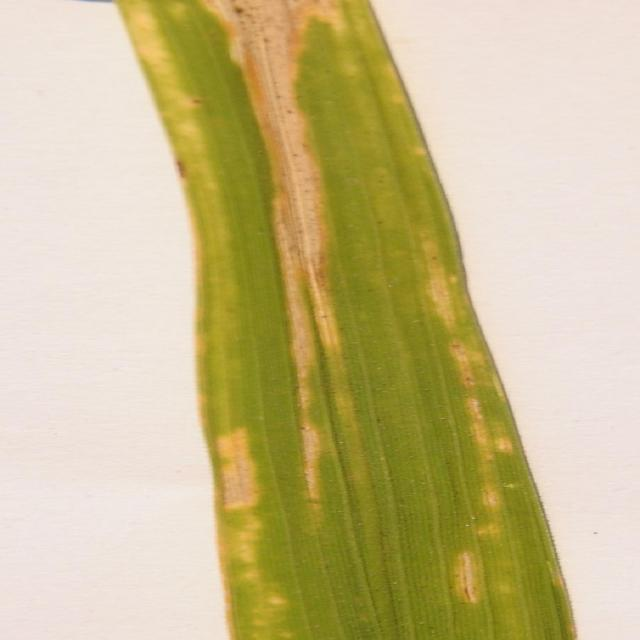leaf blight: (124, 1, 553, 636)
